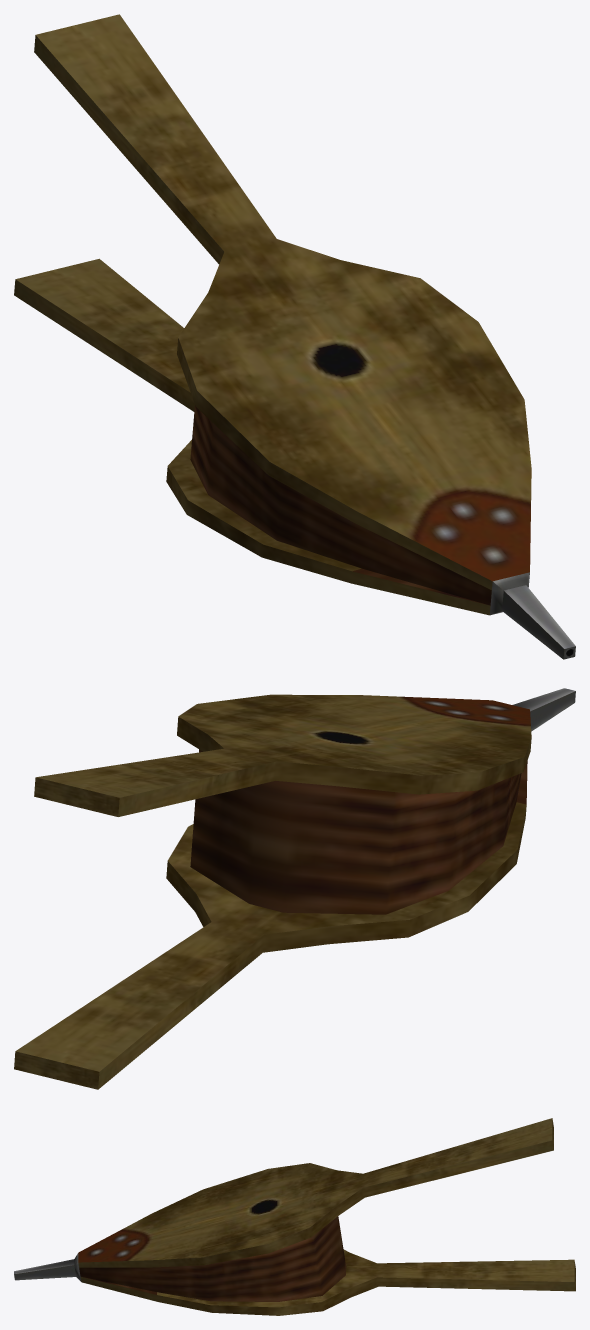
Rendered from shop_bsmith_bellows.fbx.
3 views of the same model, one above another, from view 1: azimuth 30°, elevation 25°; view 2: azimuth 150°, elevation 25°; view 3: azimuth 270°, elevation 25° (orthographic). The views are drawn at different scales.
Visible parts, largest first — view 1: lod_high; view 2: lod_high; view 3: lod_high.
Part boxes in pixels (left/top/right/bottom): lod_high: left=14, top=14, right=575, bottom=659; lod_high: left=14, top=688, right=575, bottom=1089; lod_high: left=14, top=1118, right=575, bottom=1315.
Size of the model in its own units: 70.84 by 66.42 by 224.
Materials: 1 (1 with a texture image).
